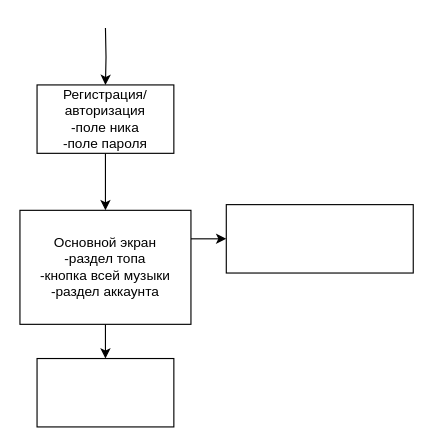
Some shapes in this 433 by 447 pixel diagram are drawn without their labels. Here are the shapes that lost their labels. From the top down, the centre of each, then its label:
(319,238): Экран всей музыки -список композиций: композиция-автор-ср. оценка
(105,392): Экран аккаунта
